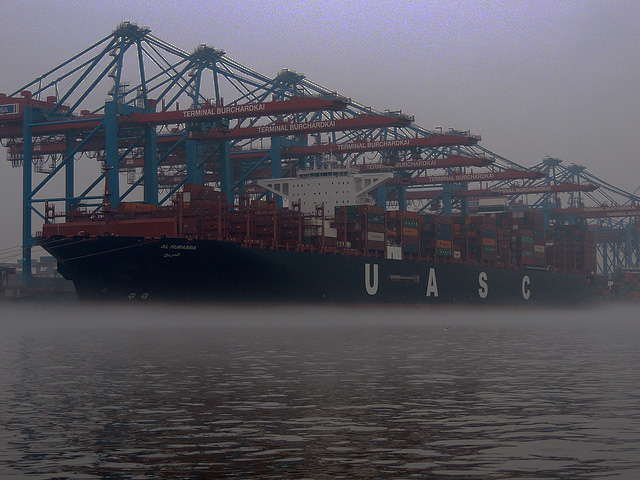container_ship: (33, 156, 596, 316)
